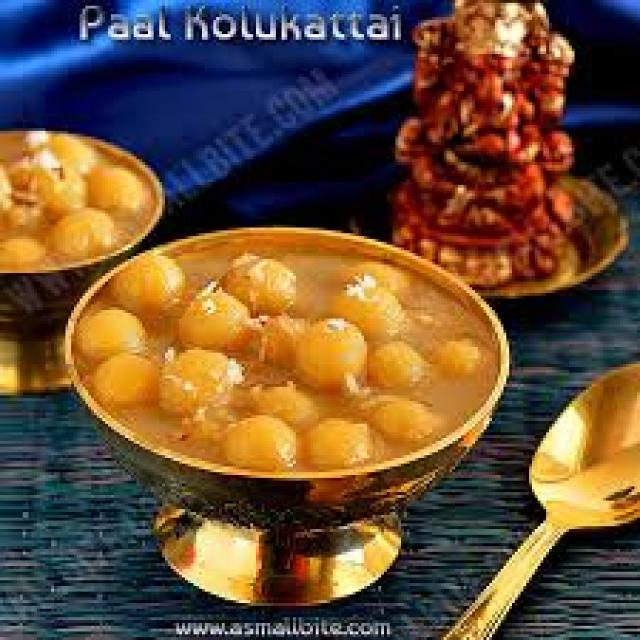paal kolukattai: (68, 231, 487, 477), (8, 119, 127, 274)
